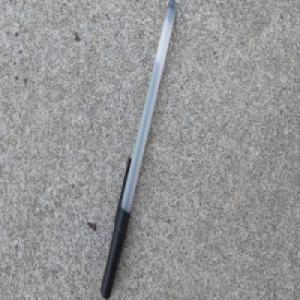Pen: (100, 0, 178, 300)
